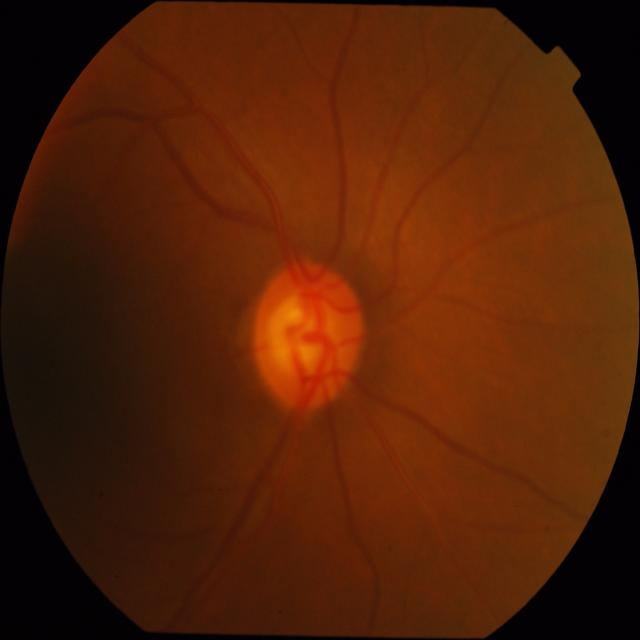OC: (268, 296, 344, 376)
OD: (252, 261, 364, 410)
